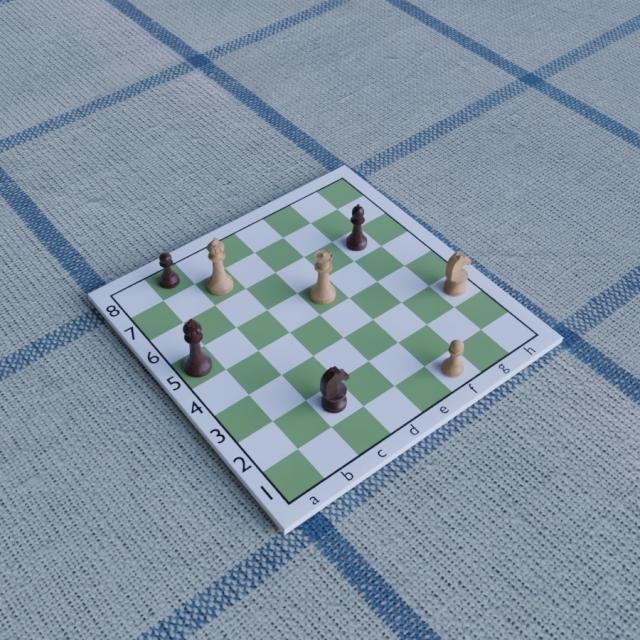black-bishop: (343, 203, 368, 253)
black-king: (181, 317, 213, 378)
black-knight: (319, 365, 349, 415)
black-pawn: (157, 250, 181, 289)
white-king: (206, 236, 234, 297)
white-knight: (443, 250, 473, 298)
white-pawn: (441, 336, 466, 379)
white-queen: (307, 247, 337, 305)
